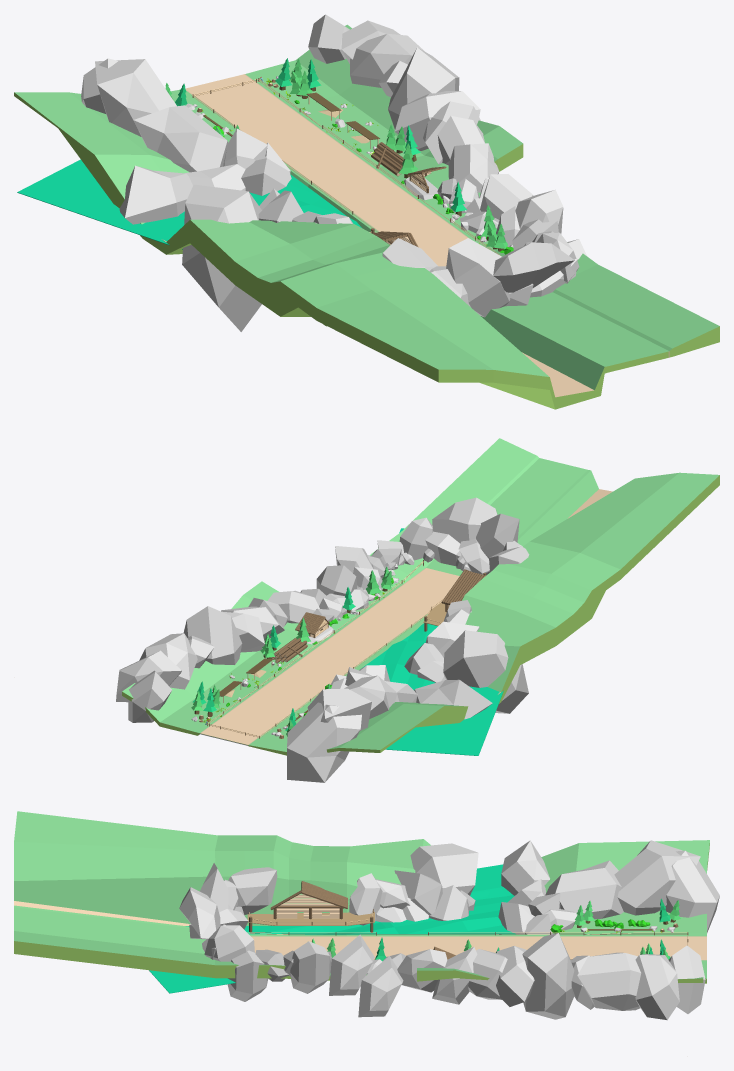
Rendered from EstadioNivel1.fbx.
The picture shows the model from 3 angles, top to bottom: view 1: azimuth 30°, elevation 25°; view 2: azimuth 150°, elevation 25°; view 3: azimuth 270°, elevation 25°; orthographic projection. The views are drawn at different scales.
Visible parts, largest first — view 1: Cube, Cube.002, Sphere.068, Sphere.080, Sphere.081, Sphere.079, Sphere.098, Sphere.097, Sphere.049, Sphere.051, Sphere.048, Sphere.046 (+14 smaller); view 2: Cube, Cube.002, Sphere.082, Sphere.068, Sphere.049, Sphere.097, Sphere.079, Sphere.053, Sphere.051, Sphere.052, Sphere.081, Sphere.098 (+12 smaller); view 3: Cube, Cube.002, Sphere.081, Sphere.049, Sphere.051, Sphere.080, Sphere.068, Sphere.082, Sphere.052, Sphere.025, Sphere.006, Sphere.079 (+27 smaller).
Boxes of the visible parts, x1,y1,x2,y2 form: Cube: [14, 24, 719, 409]; Cube.002: [17, 159, 361, 249]; Sphere.068: [182, 184, 261, 331]; Sphere.080: [133, 105, 228, 172]; Sphere.081: [95, 59, 176, 136]; Sphere.079: [119, 165, 192, 224]; Sphere.098: [446, 238, 510, 317]; Sphere.097: [493, 242, 574, 292]; Sphere.049: [388, 47, 459, 129]; Sphere.051: [350, 33, 424, 87]; Sphere.048: [394, 91, 480, 150]; Sphere.046: [448, 143, 499, 192]; Cube: [122, 438, 719, 755]; Cube.002: [361, 528, 503, 755]; Sphere.082: [287, 702, 361, 782]; Sphere.068: [443, 630, 528, 713]; Sphere.049: [183, 606, 242, 664]; Sphere.097: [432, 497, 497, 543]; Sphere.079: [414, 679, 492, 719]; Sphere.053: [128, 670, 171, 722]; Sphere.051: [139, 633, 197, 689]; Sphere.052: [116, 650, 181, 702]; Sphere.081: [307, 688, 371, 730]; Sphere.098: [476, 513, 519, 558]; Cube: [14, 811, 709, 983]; Cube.002: [149, 864, 515, 993]; Sphere.081: [614, 840, 700, 915]; Sphere.049: [522, 932, 574, 1019]; Sphere.051: [577, 952, 641, 1010]; Sphere.080: [545, 860, 623, 919]; Sphere.068: [410, 843, 478, 895]; Sphere.082: [665, 850, 719, 932]; Sphere.052: [635, 954, 679, 1020]; Sphere.025: [329, 934, 374, 995]; Sphere.006: [358, 956, 403, 1017]; Sphere.079: [501, 840, 549, 895].
Bounding box in the file's own units: 104660 × 26961 × 147139.
